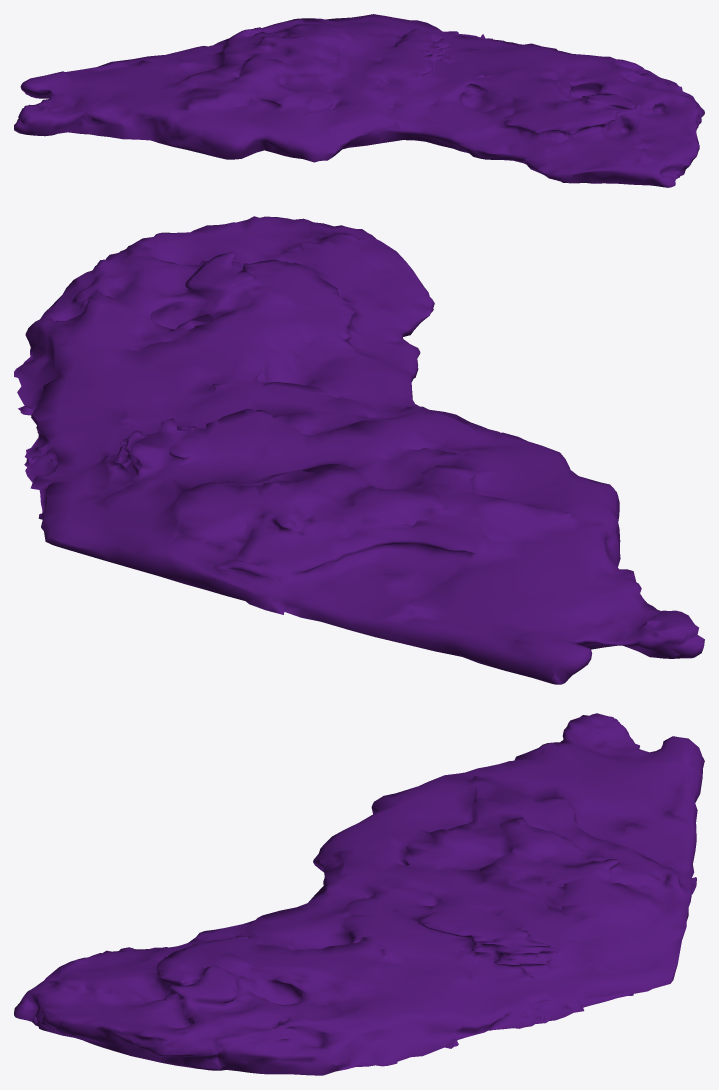
Rendered from MSH_Rocks_Flat_01.FBX.
3 views of the same model, one above another, from view 1: azimuth 30°, elevation 25°; view 2: azimuth 150°, elevation 25°; view 3: azimuth 270°, elevation 25° (orthographic). The views are drawn at different scales.
Parts seen in each view (by area): view 1: MESH_LOD0; view 2: MESH_LOD0; view 3: MESH_LOD0.
Part boxes in pixels (box(x1,y1,x2,y2)): MESH_LOD0: box(14, 14, 704, 187); MESH_LOD0: box(14, 216, 704, 684); MESH_LOD0: box(14, 713, 704, 1075).
Size of what is drawn, in the model's own units: 227 by 13.55 by 192.
